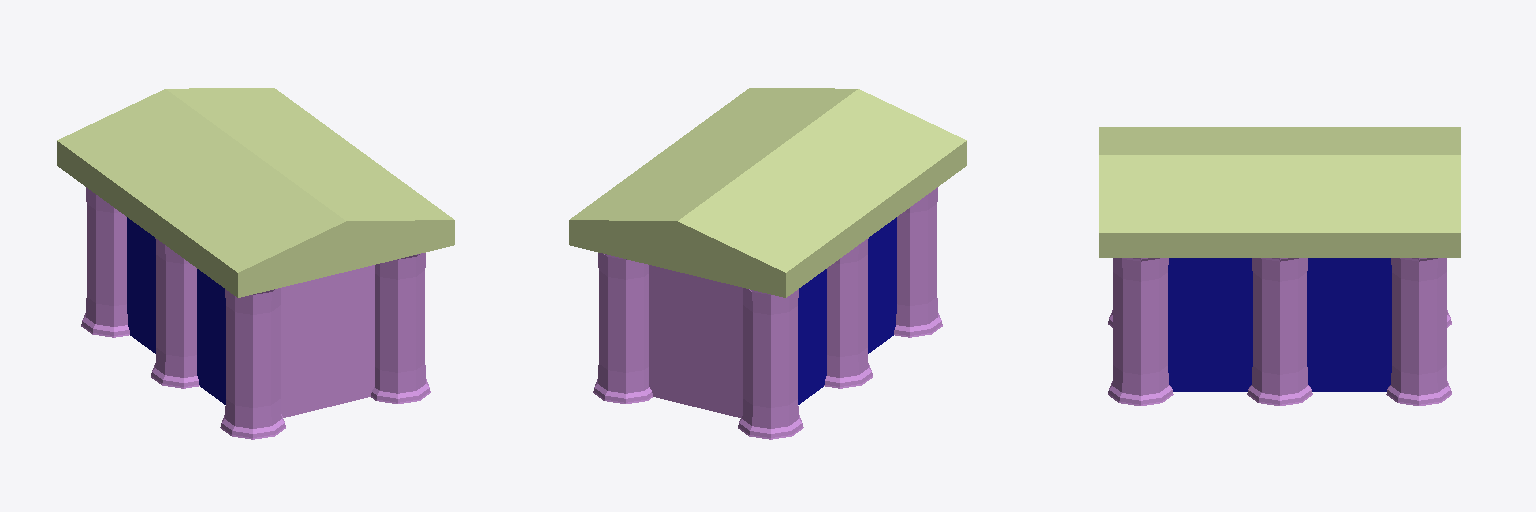
The model's file is shrine.obj.
The picture shows the model from 3 angles: view 1: azimuth 30°, elevation 25°; view 2: azimuth 150°, elevation 25°; view 3: azimuth 270°, elevation 25°; orthographic projection.
Parts seen in each view (by area): view 1: Roof001, Plane005, Cylinder012, Cylinder009, Plane008, Cylinder011, Cylinder010; view 2: Roof001, Plane006, Cylinder010, Cylinder007, Plane008, Cylinder011, Cylinder012; view 3: Roof001, Plane007, Cylinder007, Cylinder009, Cylinder008.
Boxes of the visible parts, x1=… form: Roof001: x1=57, y1=88, x2=454, y2=297; Plane005: x1=281, y1=265, x2=374, y2=417; Cylinder012: x1=220, y1=288, x2=285, y2=439; Cylinder009: x1=371, y1=253, x2=430, y2=403; Plane008: x1=127, y1=217, x2=225, y2=404; Cylinder011: x1=151, y1=238, x2=199, y2=388; Cylinder010: x1=81, y1=187, x2=129, y2=337; Roof001: x1=569, y1=88, x2=966, y2=297; Plane006: x1=649, y1=265, x2=742, y2=417; Cylinder010: x1=738, y1=288, x2=803, y2=439; Cylinder007: x1=593, y1=253, x2=652, y2=403; Plane008: x1=798, y1=217, x2=896, y2=404; Cylinder011: x1=824, y1=238, x2=872, y2=388; Cylinder012: x1=894, y1=187, x2=942, y2=337; Roof001: x1=1099, y1=127, x2=1460, y2=257; Plane007: x1=1168, y1=258, x2=1391, y2=391; Cylinder007: x1=1386, y1=258, x2=1451, y2=405; Cylinder009: x1=1108, y1=258, x2=1173, y2=405; Cylinder008: x1=1247, y1=258, x2=1312, y2=405.
Bounding box in the file's own units: 90 × 80 × 130.